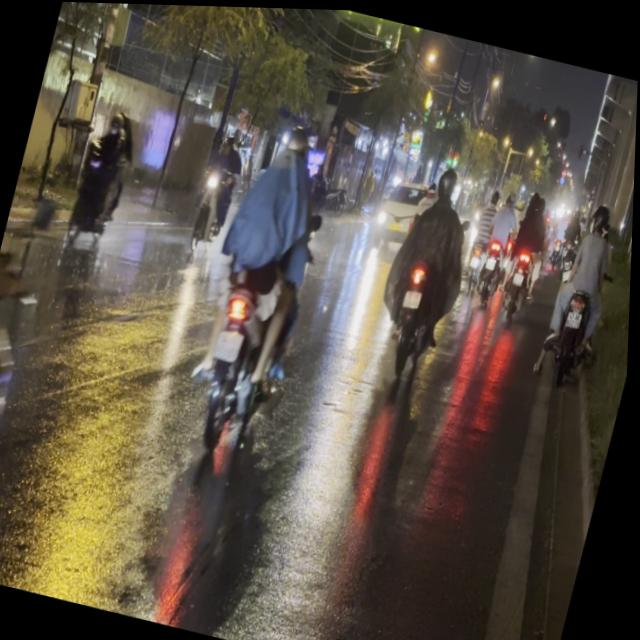helmet: (278, 117, 316, 164), (433, 161, 462, 201)
licenseplate: (162, 88, 354, 487), (360, 144, 493, 396)
nohelmet: (213, 324, 244, 358), (403, 284, 423, 305)
